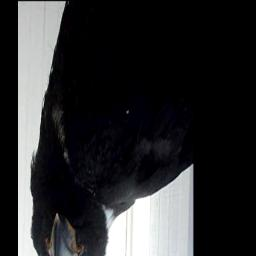Crow: (28, 2, 193, 256)
